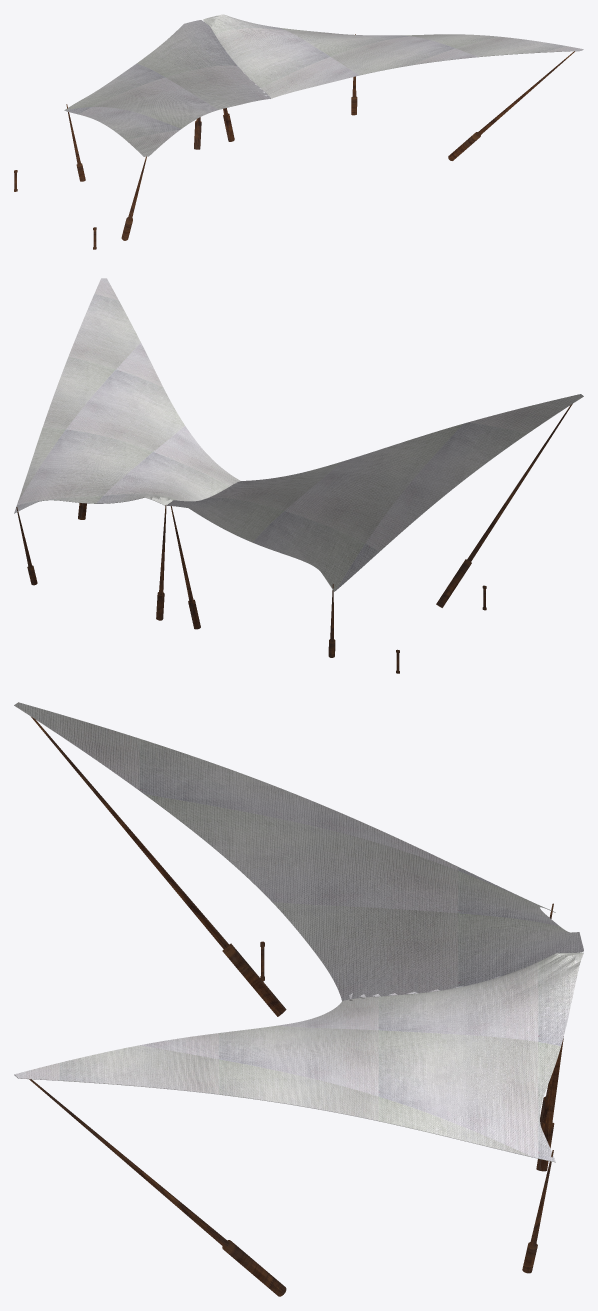
File: umbrella.obj
The picture shows the model from 3 angles, top to bottom: view 1: azimuth 30°, elevation 25°; view 2: azimuth 150°, elevation 25°; view 3: azimuth 270°, elevation 25°; orthographic projection. The views are drawn at different scales.
Visible parts, largest first — view 1: Box004, Box005, Cylinder002; view 2: Box004, Box005, Cylinder008; view 3: Box005, Box004, Cylinder008, Cylinder002, Cylinder007, Cylinder001.
Boxes of the visible parts, <box> form: Box004: <box>203,14,583,98</box>; Box005: <box>64,20,270,156</box>; Cylinder002: <box>476,51,574,136</box>; Box004: <box>14,278,240,513</box>; Box005: <box>166,394,583,591</box>; Cylinder008: <box>467,404,572,610</box>; Box005: <box>14,702,583,1000</box>; Box004: <box>14,952,583,1162</box>; Cylinder008: <box>31,717,264,981</box>; Cylinder002: <box>29,1079,229,1247</box>; Cylinder007: <box>222,943,286,1016</box>; Cylinder001: <box>222,1240,286,1296</box>.
Size of the model in its own units: 227 by 75.05 by 145.
2 materials, 2 textured.
